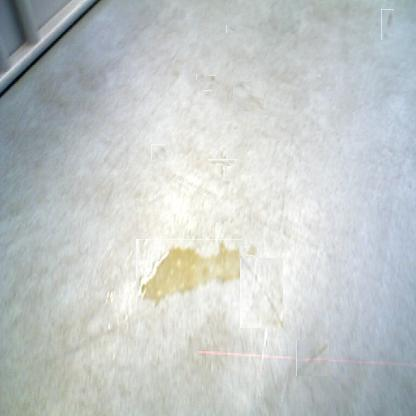liquid: (136, 239, 243, 308), (245, 245, 256, 255)
mark: (240, 258, 283, 328), (296, 340, 329, 376), (232, 81, 264, 112), (381, 9, 394, 40), (213, 154, 232, 172), (151, 144, 166, 161), (227, 25, 236, 34), (208, 75, 216, 84), (203, 90, 212, 98), (197, 74, 205, 81)
